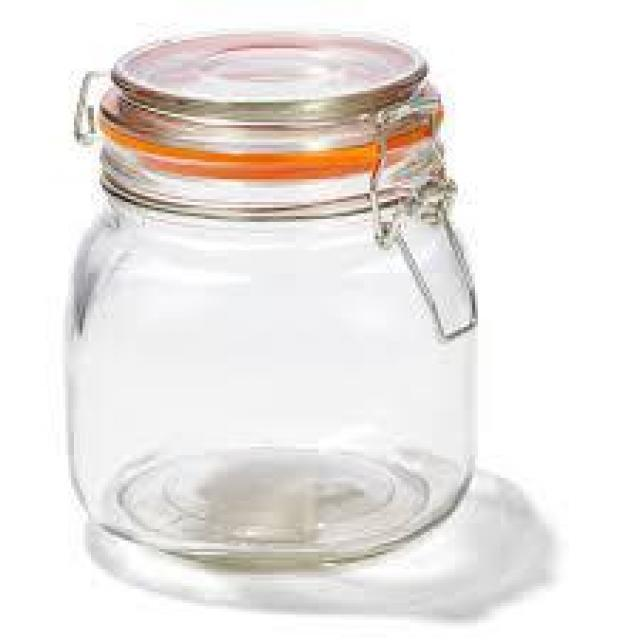glass: (59, 28, 487, 569)
